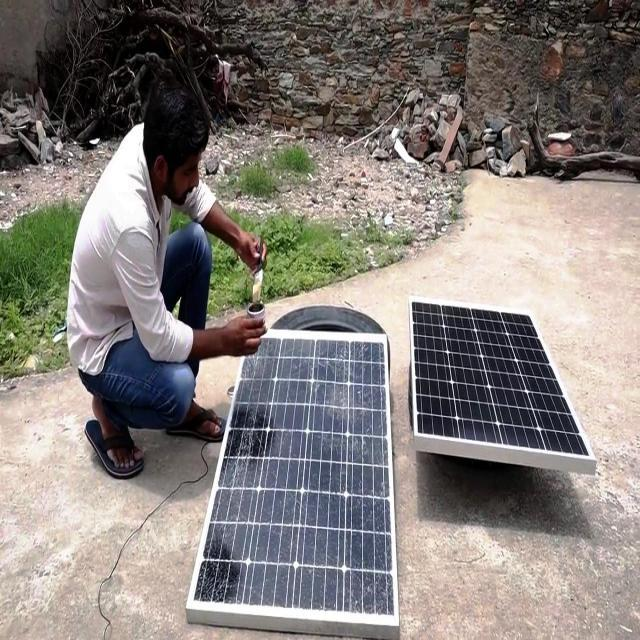faulty: (186, 332, 398, 626)
no faulty: (410, 295, 598, 471)
